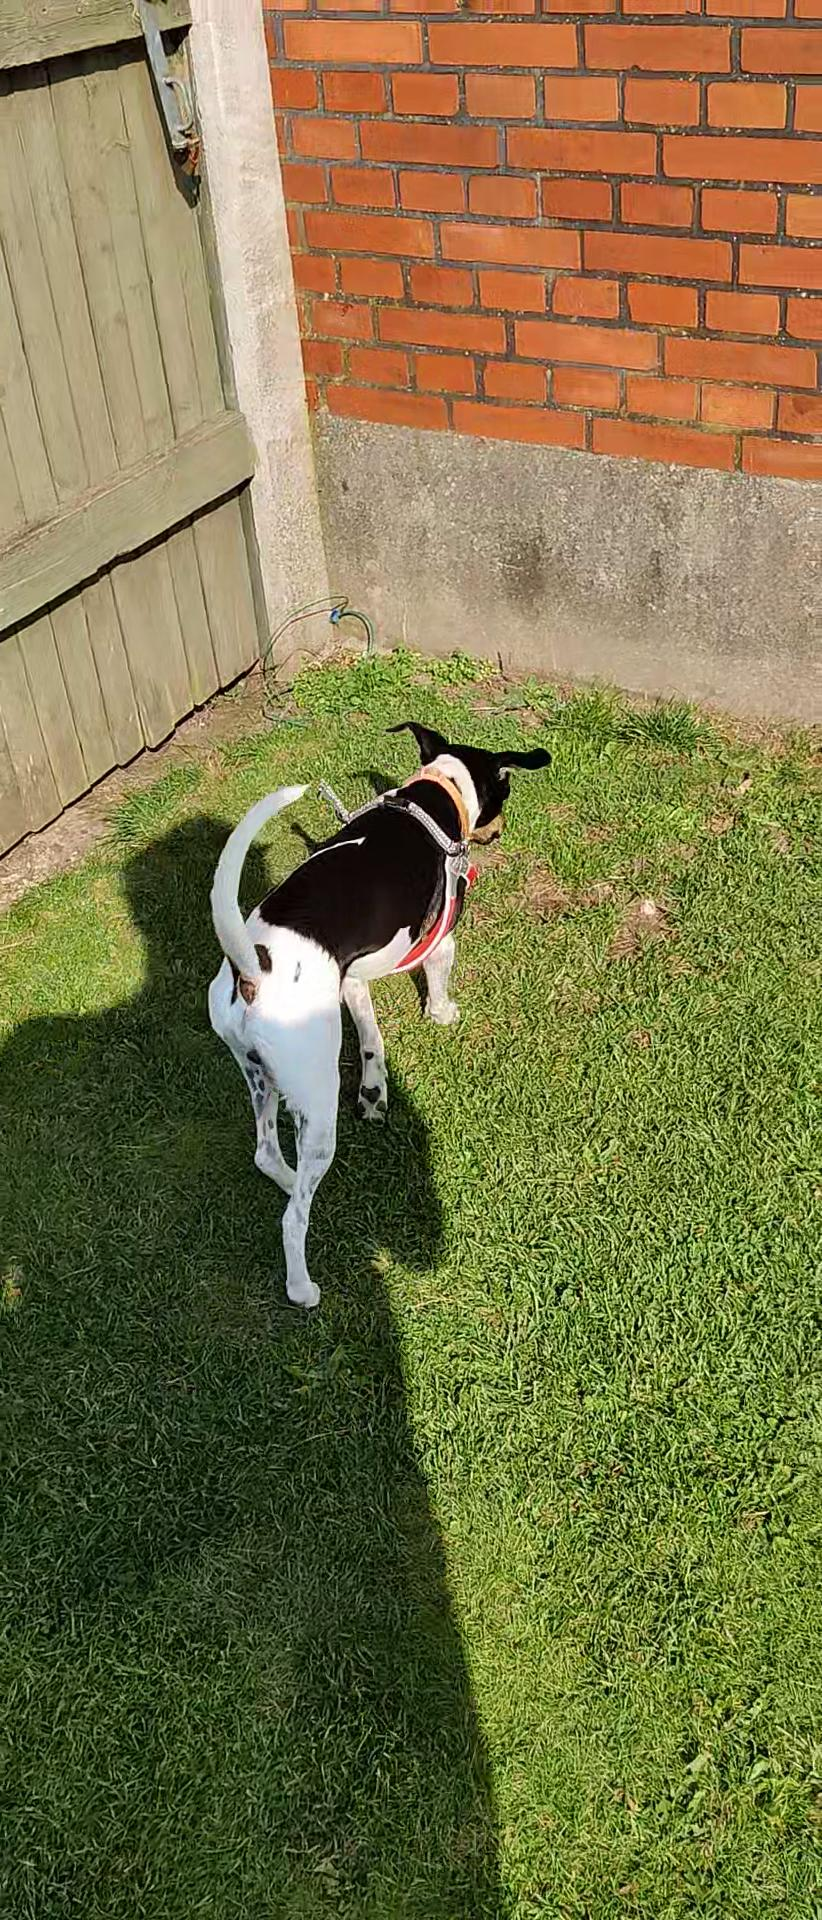Dog: (191, 711, 568, 1311)
